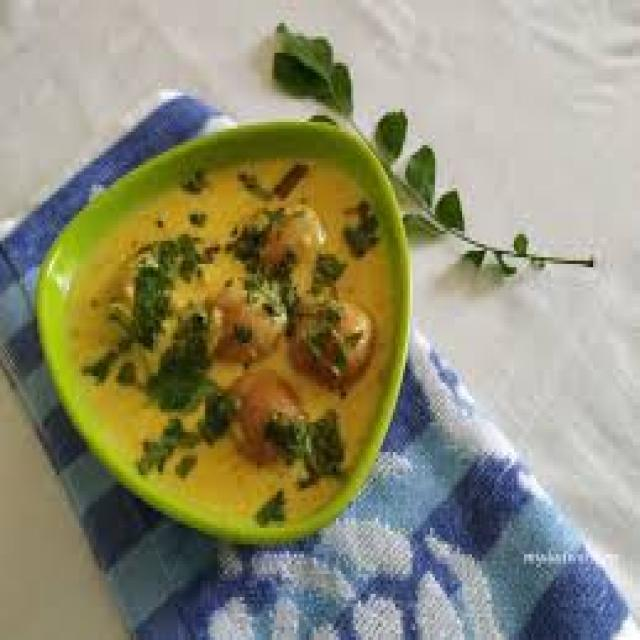Kadhi Pakora: (60, 154, 398, 528)
